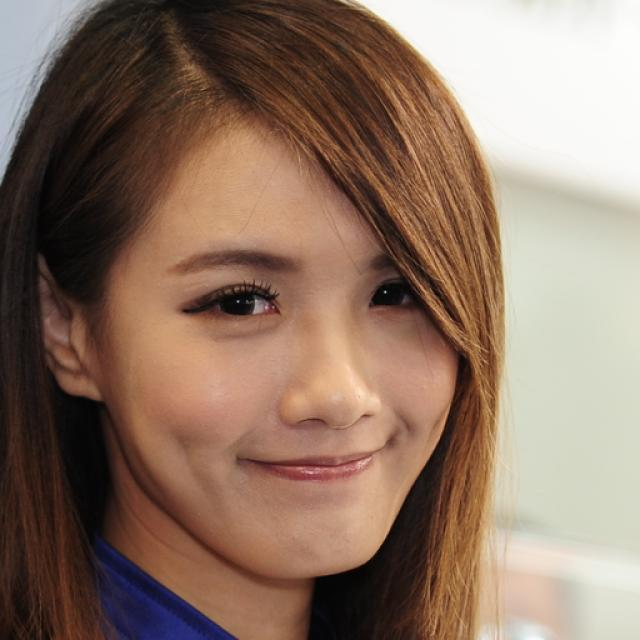happy: (98, 95, 462, 579)
